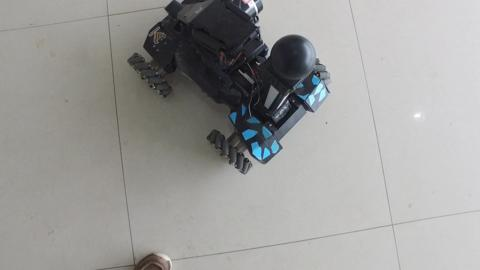chariot: (117, 11, 322, 162)
